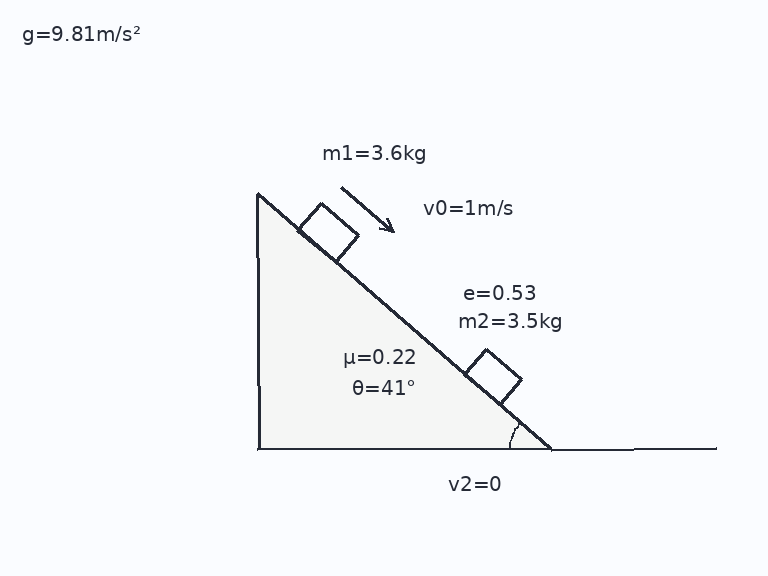block: (296, 201, 360, 264), (462, 347, 524, 407)
ramp: (255, 192, 552, 451)
